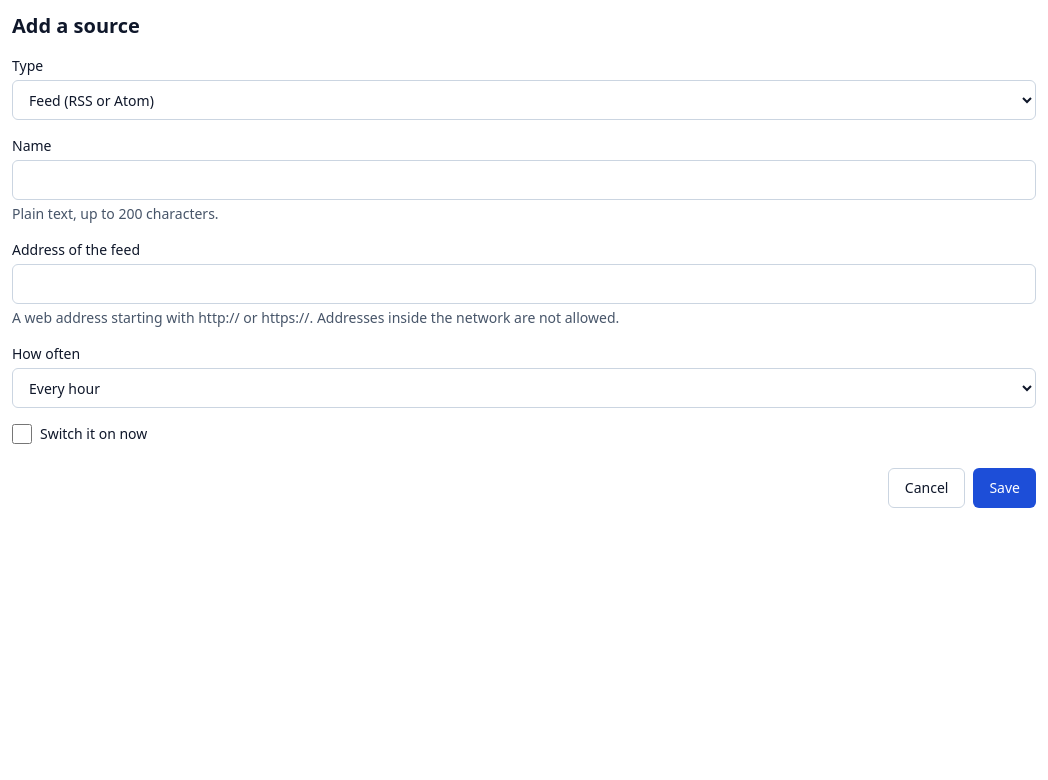
Test case: adding a source › does not ask for a github without its settings
Select "GitHub releases" in the dropdown labelled "Type". click: (524, 100)
box: top-left (12, 80), bottom-right (1036, 120)
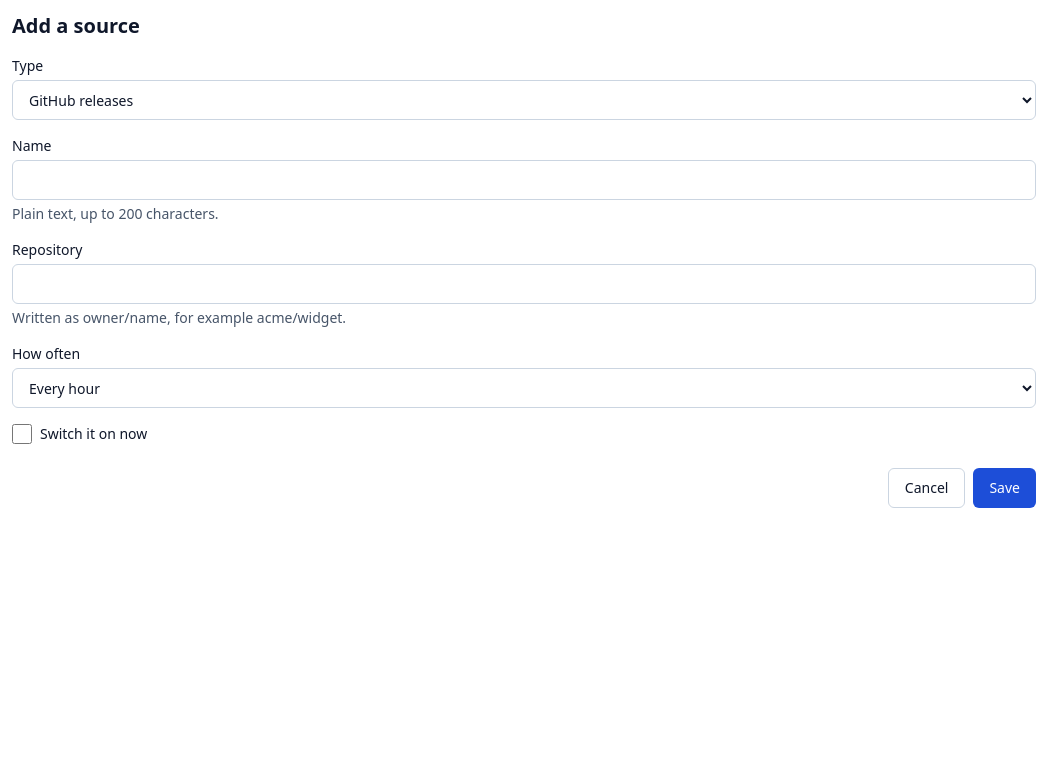
Type "N" into the field labelled "Name". click: (524, 180)
box: top-left (12, 160), bottom-right (1036, 200)
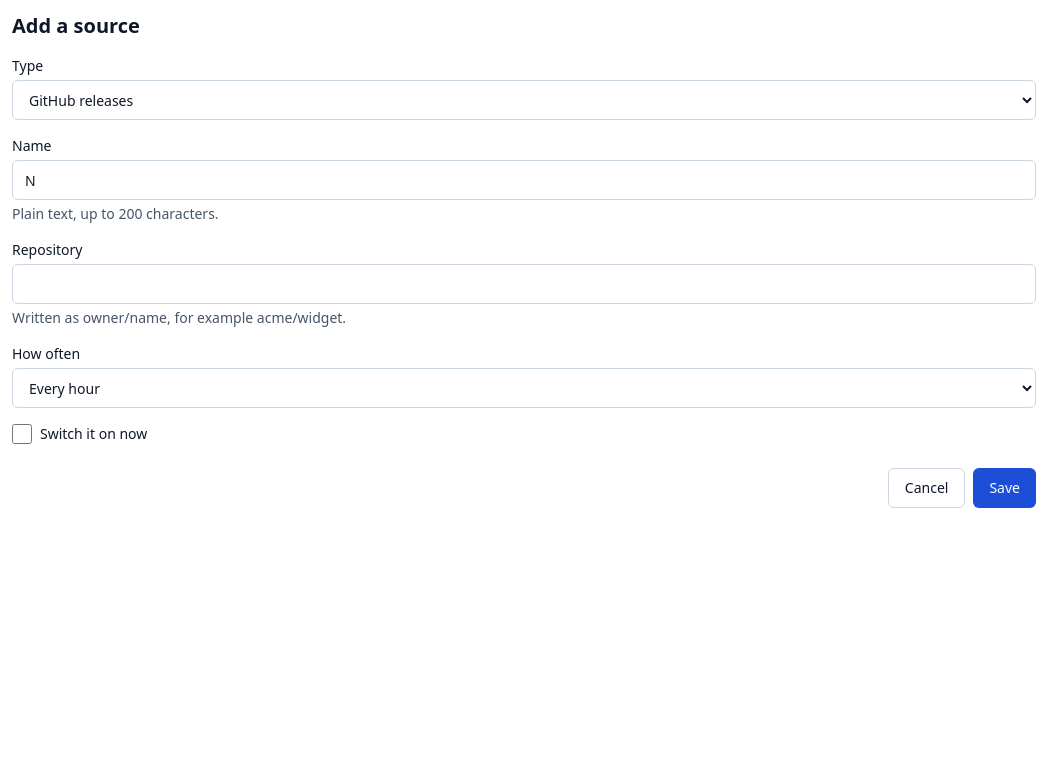
Click the button "Save". click: (1005, 488)
box: top-left (973, 468), bottom-right (1036, 508)
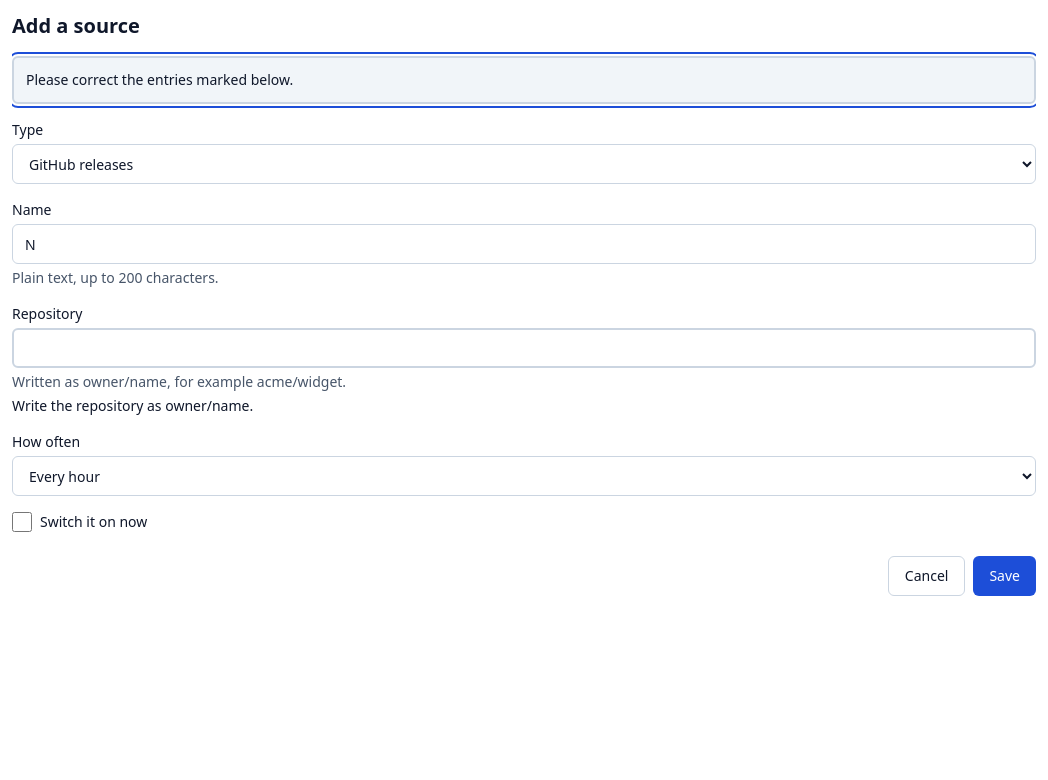
Expected: the text "Write the repository as owner/name." is shown, top-left (12, 396), bottom-right (253, 415)
